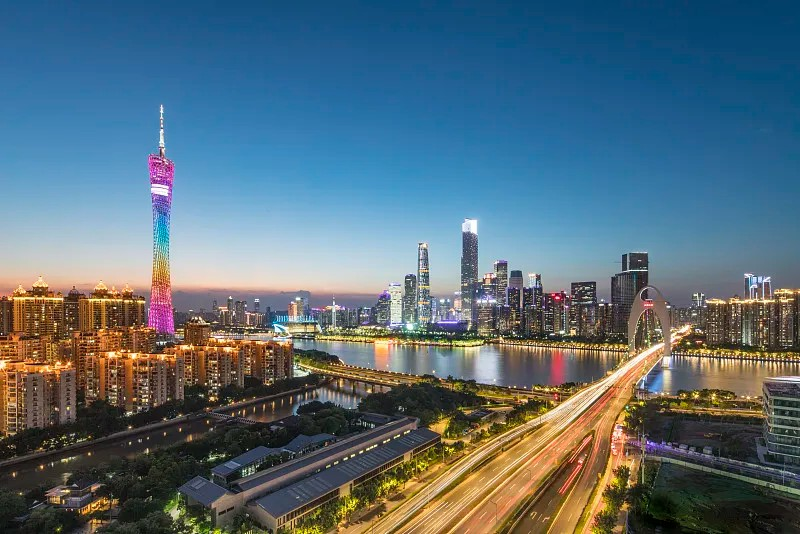Canton: (148, 100, 177, 336)
